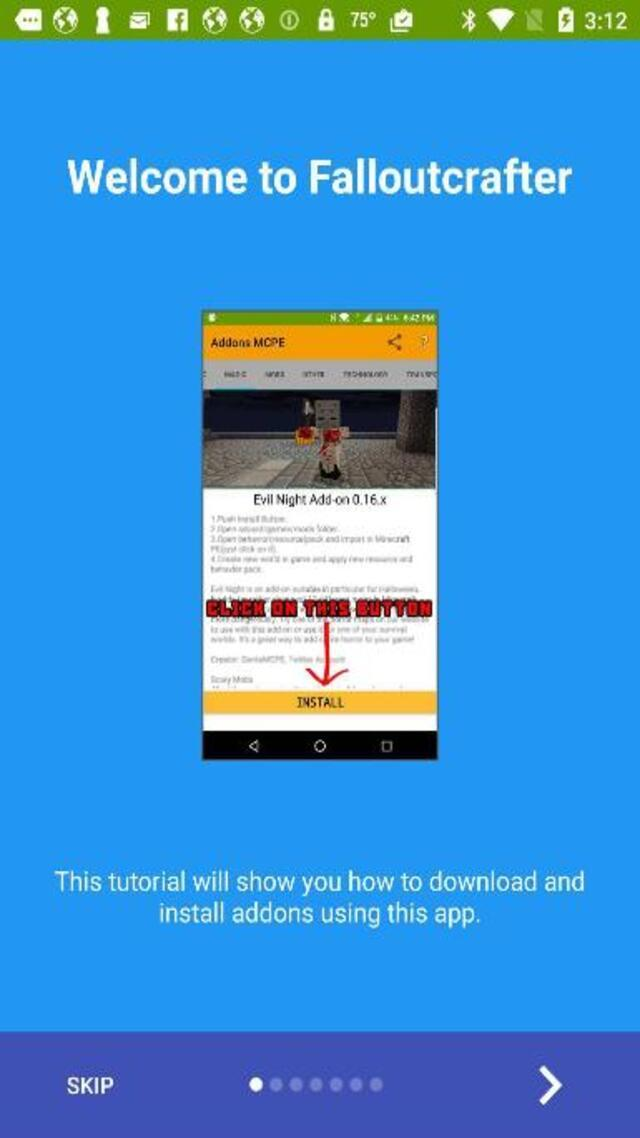Icon: (538, 1064, 562, 1105)
Image: (200, 310, 438, 760)
Text: (61, 155, 575, 198), (53, 870, 592, 897), (153, 900, 486, 928), (68, 1076, 115, 1094)
